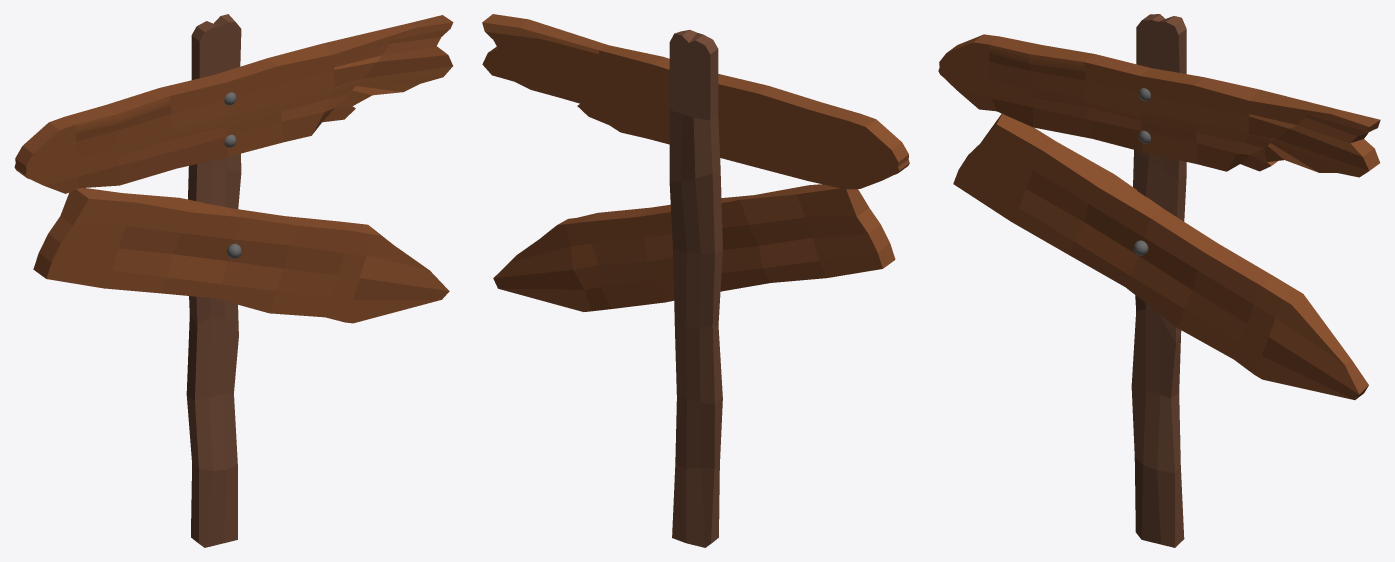
Rendered from Wegweiser.fbx.
3 views of the same model, side by side, from view 1: azimuth 30°, elevation 25°; view 2: azimuth 150°, elevation 25°; view 3: azimuth 330°, elevation 25° (orthographic). The views are drawn at different scales.
Visible parts, largest first — view 1: Wegweiser; view 2: Wegweiser; view 3: Wegweiser.
Part boxes in pixels (bbox=[...]): Wegweiser: bbox=[14, 14, 453, 547]; Wegweiser: bbox=[482, 14, 909, 547]; Wegweiser: bbox=[938, 14, 1380, 547].
Size of the model in its own units: 161 by 186 by 20.02.
